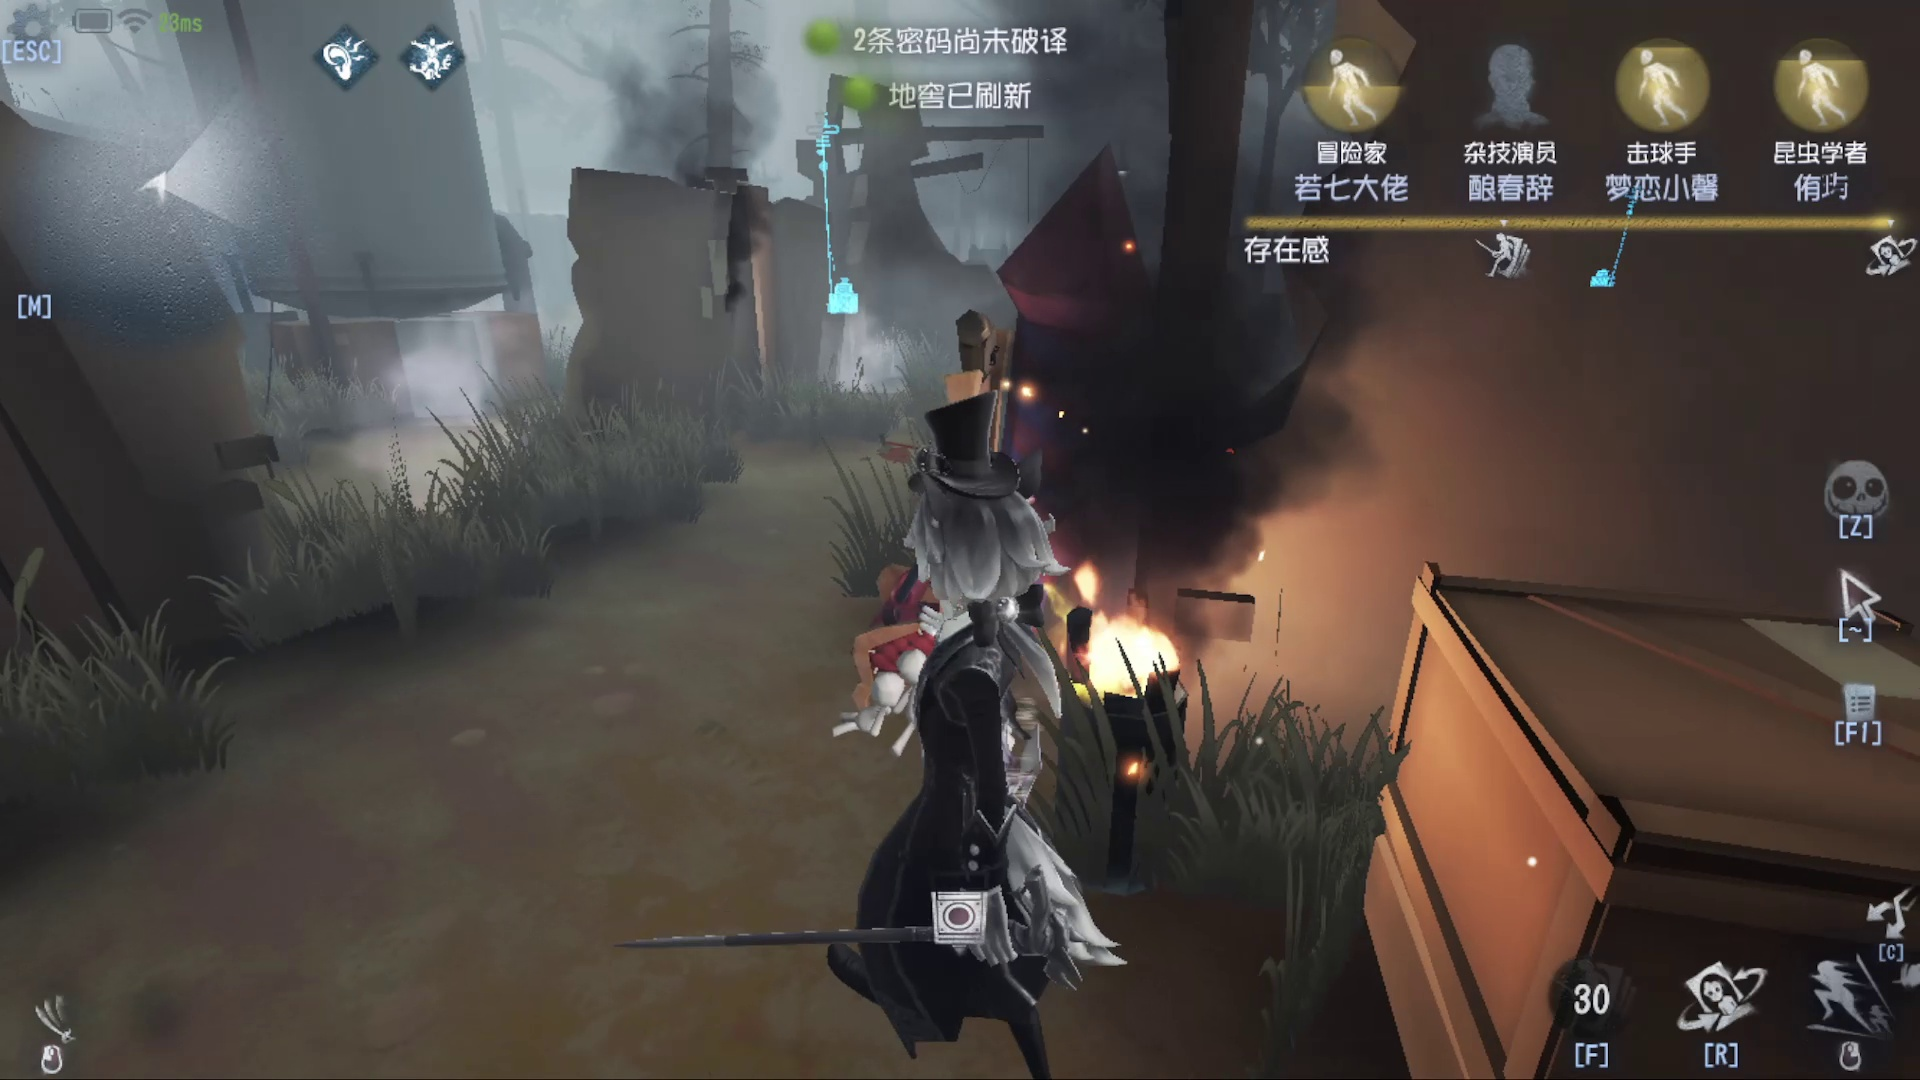密码机: (791, 94, 893, 319)
狂欢之椅: (960, 211, 1163, 392)
